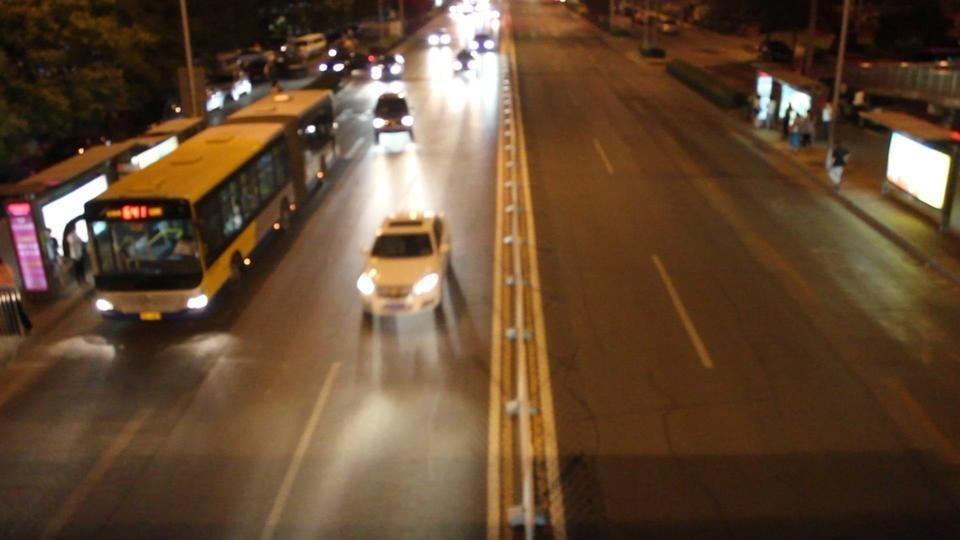car: (355, 209, 453, 320), (370, 93, 416, 151), (282, 31, 326, 65), (234, 51, 277, 84), (313, 47, 353, 78), (758, 38, 794, 64), (374, 52, 406, 81), (472, 31, 499, 53), (426, 30, 450, 48), (639, 45, 669, 59), (659, 19, 681, 37)
